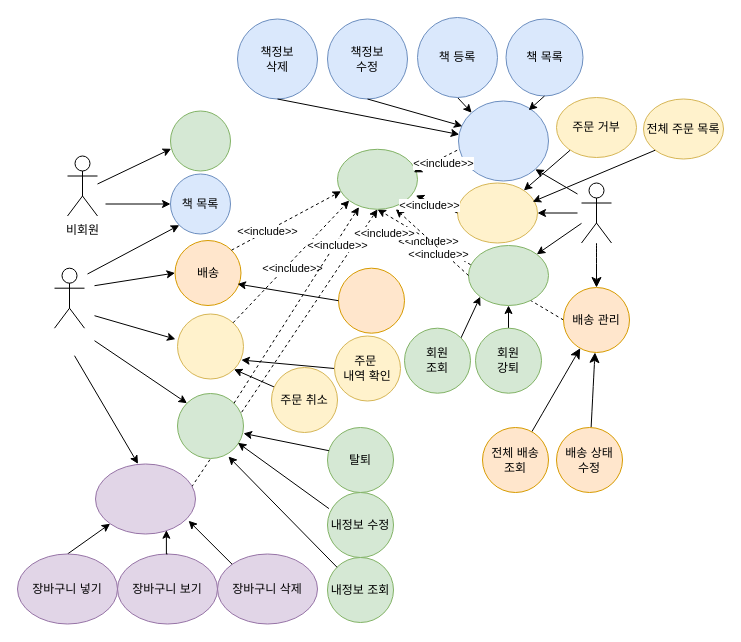
Image size: 741x642. Some labels were removed from this diagram. The box of each missing label's shape, as (x1, y1, x2, y2) in pixels:
관리자: (580, 182, 612, 243)
내정보 관리: (176, 392, 244, 458)
배송 조회: (338, 267, 404, 333)
사용자 인증: (336, 148, 418, 209)
장바구니 관리: (94, 463, 196, 534)
전체 주문 관리: (456, 182, 538, 243)
주문: (176, 313, 244, 379)
책정보 관리: (458, 100, 548, 181)
회원: (54, 267, 84, 328)
회원 관리: (468, 244, 548, 306)
회원가입: (170, 110, 230, 171)
